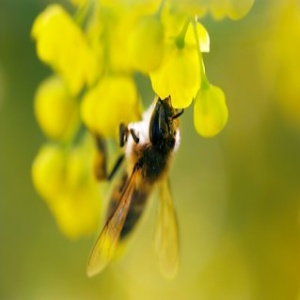bee: (86, 96, 187, 290)
